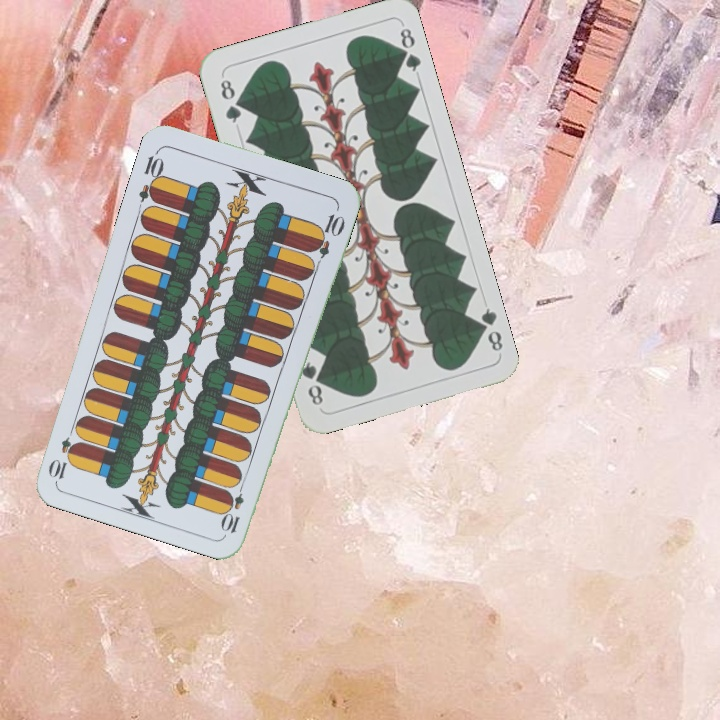E10: (134, 146, 167, 205), (219, 477, 247, 536)
G8: (471, 304, 506, 354), (216, 75, 244, 126)
